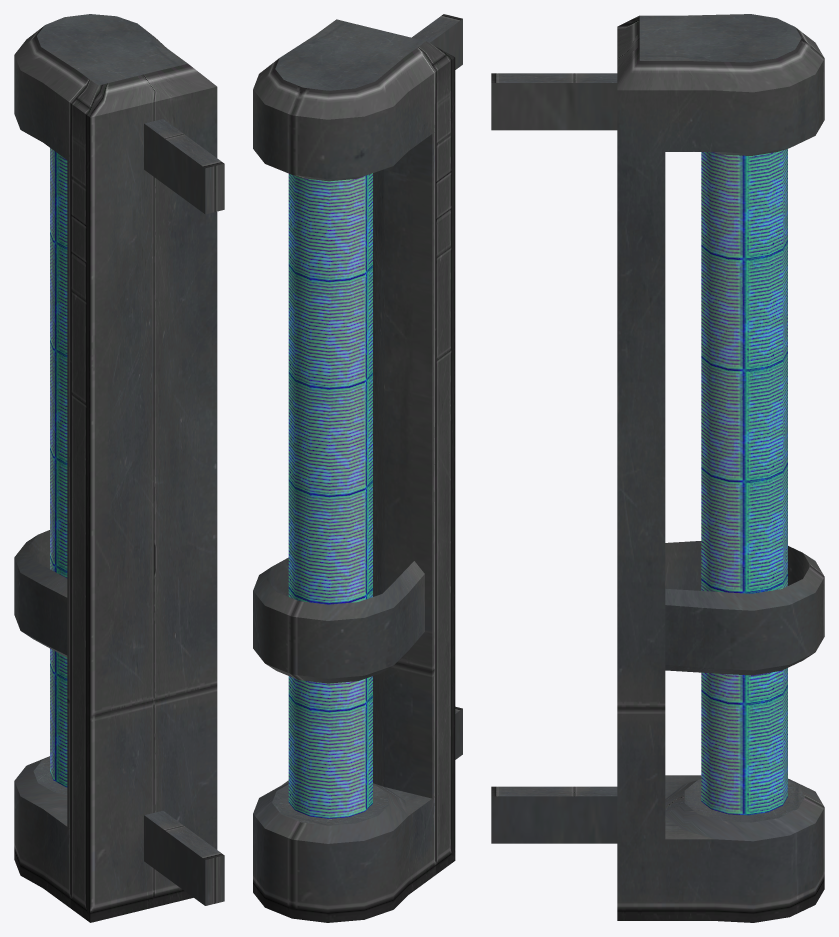
Rendered from GreenLight_01.FBX.
3 views of the same model, side by side, from view 1: azimuth 30°, elevation 25°; view 2: azimuth 150°, elevation 25°; view 3: azimuth 270°, elevation 25° (orthographic). The views are drawn at different scales.
Parts seen in each view (by area): view 1: GreenLight_01; view 2: GreenLight_01; view 3: GreenLight_01.
Part boxes in pixels (<box>): GreenLight_01: <box>14,14,224,922</box>; GreenLight_01: <box>253,14,462,922</box>; GreenLight_01: <box>491,14,824,922</box>.
Bounding box in the file's own units: 0.4732 × 2.77 × 0.9833.
